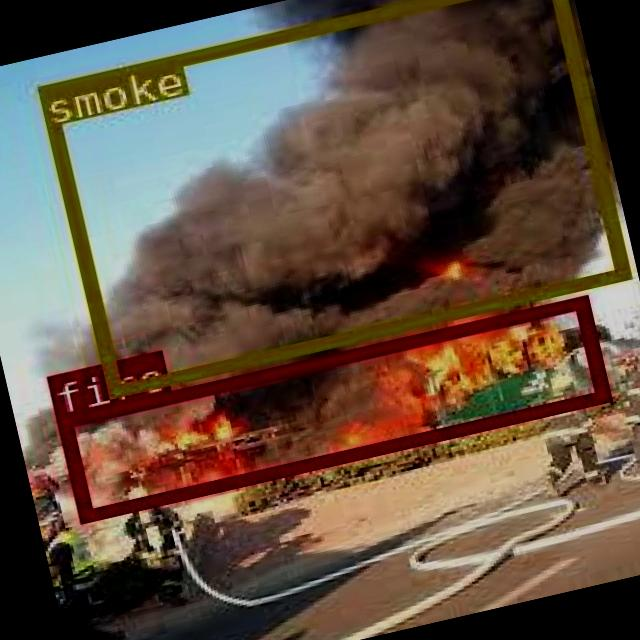fire: (53, 293, 608, 521)
smoke: (35, 0, 626, 395)
